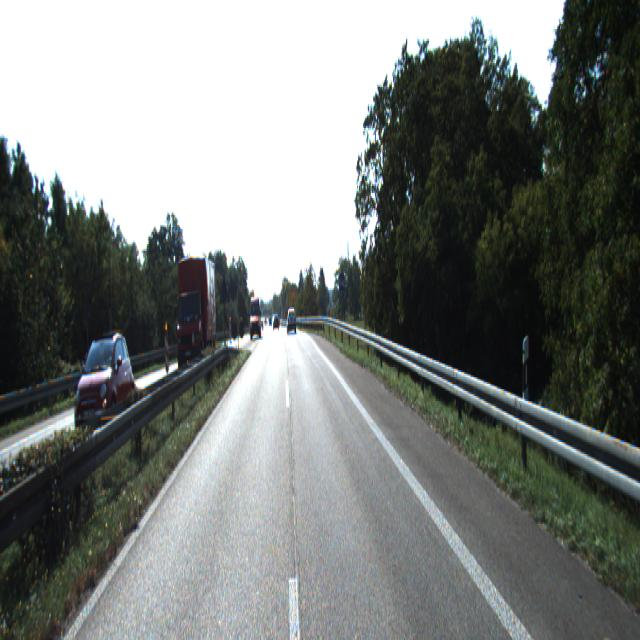Car: (78, 326, 138, 443), (287, 309, 297, 332)
DontCare: (269, 311, 281, 333)
Truck: (173, 252, 219, 377)
Van: (249, 294, 262, 341)
